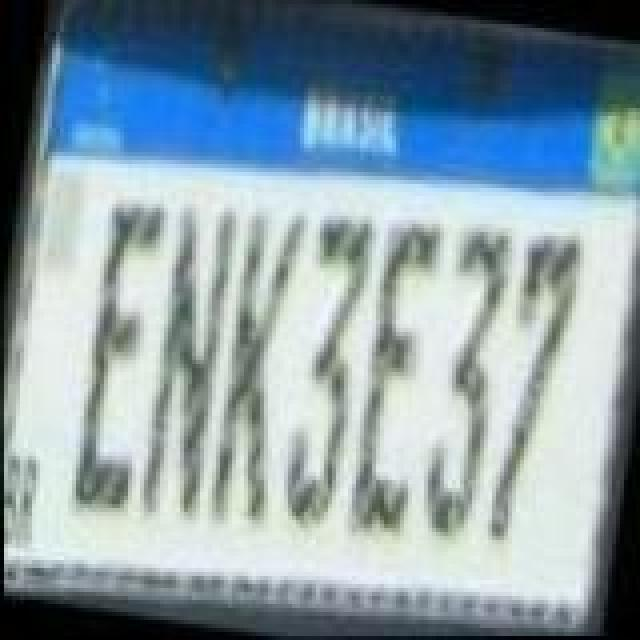3: (266, 202, 374, 538), (410, 214, 518, 542)
7: (474, 218, 582, 550)
E: (334, 206, 450, 546), (60, 188, 172, 516)
K: (198, 190, 314, 530)
N: (126, 194, 242, 530)
